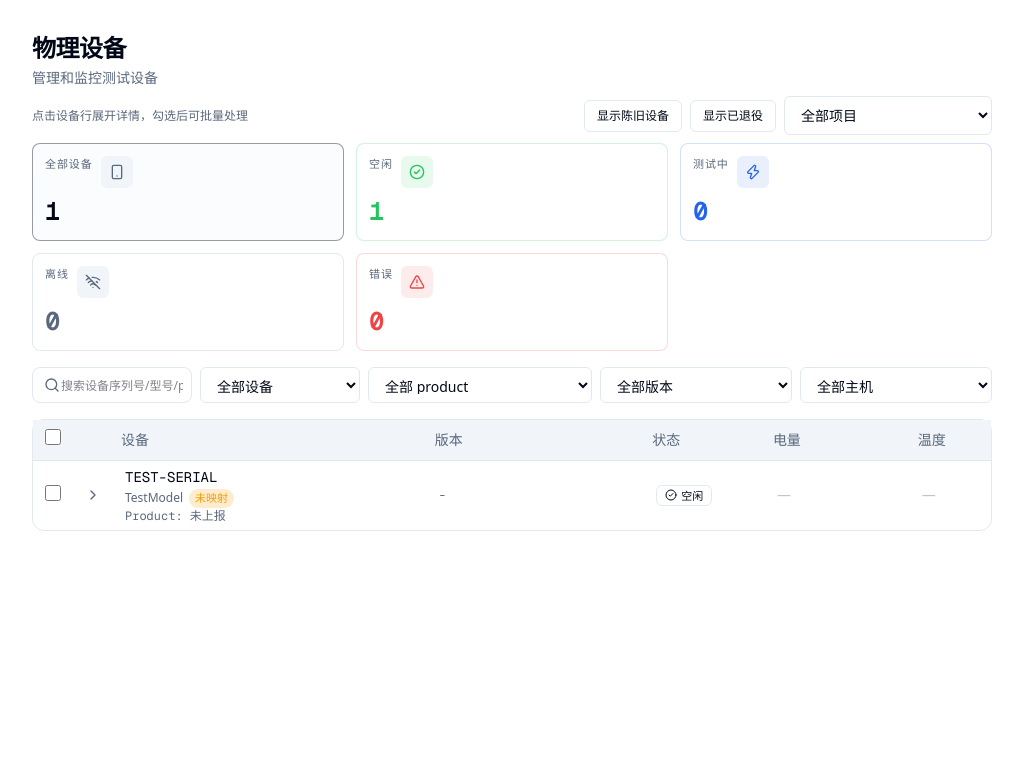
Test case: DevicesPage › non-admin does not see the bulk-assign entry
Expected: the text "TEST-SERIAL" is shown, [125,468,217,486]
Click the checkbox named "选择设备 TEST-SERIAL" at (53, 493), box [45,485,61,501]
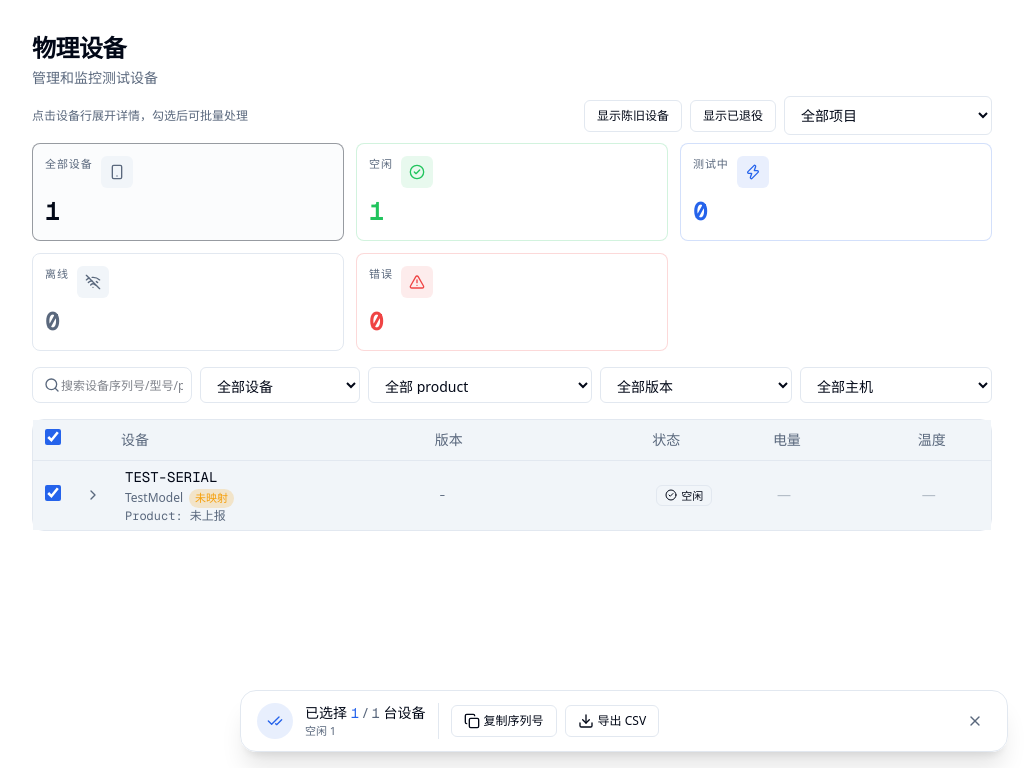
Now the element with test id "device-bulk-action-bar" is shown, box [240,690,1008,752]
